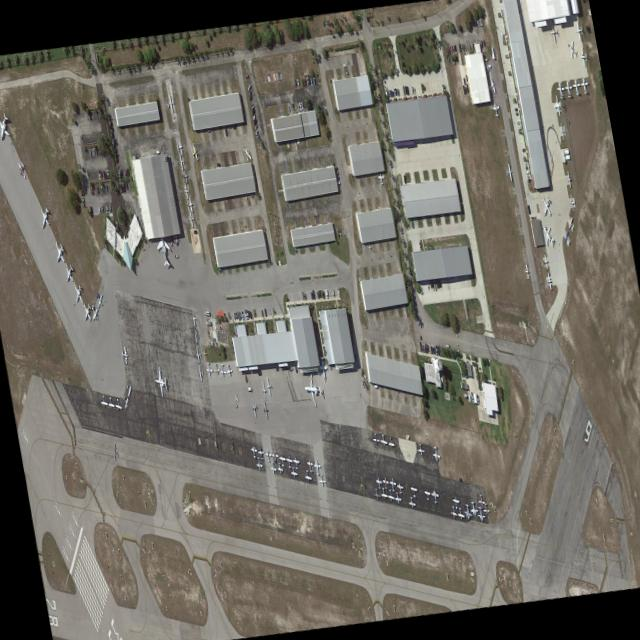large-vehicle: (204, 319, 210, 324), (203, 309, 208, 314)
plane: (300, 371, 322, 406), (153, 232, 172, 265), (151, 363, 166, 398), (52, 234, 65, 272), (71, 274, 84, 310), (539, 188, 551, 223), (62, 256, 74, 289), (38, 199, 49, 235), (541, 216, 552, 251), (80, 295, 92, 327), (0, 107, 9, 148), (316, 354, 328, 381), (15, 154, 25, 182), (88, 299, 98, 323), (551, 93, 561, 116), (94, 286, 103, 311), (461, 500, 471, 521), (189, 140, 198, 162), (543, 270, 552, 290), (573, 19, 582, 39), (430, 443, 440, 461), (475, 503, 485, 521), (567, 36, 574, 61), (467, 499, 477, 516), (481, 55, 491, 72), (578, 76, 588, 93), (487, 74, 495, 95), (548, 20, 556, 41), (566, 212, 574, 233), (249, 396, 257, 417), (490, 98, 499, 116), (563, 79, 572, 97), (578, 45, 586, 65), (570, 77, 580, 93), (174, 135, 182, 155), (119, 343, 127, 363), (562, 226, 569, 248), (248, 442, 257, 459), (555, 81, 564, 98), (429, 486, 438, 503), (258, 380, 266, 399), (264, 376, 272, 395), (121, 390, 128, 411), (567, 192, 575, 210), (304, 456, 313, 472), (311, 458, 320, 474), (387, 475, 396, 491), (558, 120, 565, 140), (111, 440, 117, 463), (540, 252, 548, 269), (166, 93, 174, 110), (284, 452, 292, 469), (185, 195, 193, 212), (406, 494, 415, 509), (408, 482, 417, 497), (217, 361, 226, 376), (243, 145, 250, 164), (124, 379, 131, 398), (378, 431, 386, 447), (98, 391, 106, 407), (504, 162, 511, 180), (370, 430, 379, 444), (316, 472, 325, 486), (371, 485, 380, 499), (455, 504, 463, 519), (448, 503, 456, 518), (277, 451, 285, 466), (302, 467, 310, 482), (291, 454, 299, 469), (451, 493, 459, 508), (422, 486, 430, 501), (385, 486, 393, 501), (379, 484, 387, 499), (224, 361, 232, 376), (113, 395, 121, 410), (204, 360, 212, 375), (261, 400, 268, 417), (187, 209, 194, 226), (181, 166, 188, 183), (177, 151, 184, 168), (375, 170, 384, 183), (415, 441, 424, 454), (522, 262, 529, 278), (386, 434, 394, 448), (182, 182, 189, 198), (192, 326, 198, 344), (254, 455, 261, 470), (263, 448, 271, 461), (270, 448, 278, 461), (476, 492, 484, 505), (392, 490, 400, 503), (106, 395, 114, 408), (211, 361, 219, 374), (565, 169, 571, 186), (190, 308, 196, 325), (194, 345, 200, 362), (196, 363, 202, 380), (289, 463, 296, 477), (381, 474, 388, 488), (374, 474, 381, 488), (395, 479, 402, 493), (268, 460, 275, 473), (275, 460, 282, 473), (256, 446, 263, 458), (481, 501, 488, 513)
small-vehicle: (433, 343, 437, 354), (435, 343, 439, 354), (464, 82, 468, 92), (242, 308, 246, 318), (173, 234, 177, 244), (88, 204, 92, 214), (429, 277, 433, 287), (113, 217, 117, 227), (383, 87, 387, 97), (404, 84, 408, 94), (323, 287, 327, 297), (87, 147, 91, 156), (252, 116, 256, 125), (251, 111, 255, 120), (262, 307, 266, 316), (311, 75, 315, 84), (223, 123, 226, 134), (469, 390, 472, 401), (254, 131, 258, 139), (100, 183, 104, 191), (363, 381, 367, 389), (249, 102, 253, 110), (503, 52, 508, 58), (246, 384, 251, 390), (97, 169, 100, 179), (437, 276, 440, 286), (475, 393, 478, 403), (372, 382, 377, 388), (403, 84, 406, 94), (311, 288, 314, 298), (109, 126, 113, 133), (108, 121, 112, 128), (457, 42, 460, 51), (446, 45, 449, 54), (476, 17, 479, 26), (478, 16, 481, 25), (450, 54, 453, 63), (87, 110, 90, 119), (91, 146, 94, 155), (122, 168, 125, 177), (125, 167, 128, 176), (471, 41, 474, 50), (239, 309, 242, 318), (236, 310, 239, 319), (434, 277, 437, 286), (436, 277, 439, 286), (428, 278, 431, 287), (402, 173, 405, 182), (526, 203, 529, 212), (104, 203, 107, 212), (95, 184, 98, 193), (105, 168, 108, 177), (362, 372, 365, 381), (428, 344, 431, 353), (359, 378, 362, 387), (425, 279, 428, 288), (417, 240, 420, 249), (387, 87, 390, 96), (392, 86, 395, 95), (393, 86, 396, 95), (251, 106, 254, 115), (290, 102, 293, 111), (246, 81, 249, 90), (247, 86, 250, 95), (315, 289, 318, 298), (321, 289, 324, 298), (293, 363, 296, 372), (323, 105, 326, 114), (499, 30, 504, 35), (226, 123, 231, 128), (287, 365, 292, 370), (208, 339, 212, 345), (459, 42, 462, 50), (473, 17, 476, 25), (460, 42, 463, 50), (445, 55, 448, 63), (522, 159, 526, 165), (479, 39, 482, 47), (114, 155, 117, 163), (112, 141, 115, 149), (124, 168, 127, 176), (96, 145, 99, 153), (254, 127, 257, 135), (246, 309, 249, 317), (244, 309, 247, 317), (238, 310, 241, 318), (232, 311, 235, 319), (171, 234, 174, 242), (124, 181, 127, 189), (96, 205, 99, 213), (107, 203, 110, 211), (89, 185, 92, 193), (99, 183, 102, 191), (430, 345, 433, 353), (336, 229, 339, 237), (385, 88, 388, 96), (390, 87, 393, 95), (395, 87, 398, 95), (411, 85, 414, 93), (410, 85, 413, 93), (334, 169, 338, 175), (299, 100, 302, 108), (286, 104, 289, 112), (295, 77, 298, 85), (248, 93, 251, 101), (309, 290, 312, 298), (330, 288, 333, 296), (307, 76, 310, 84), (317, 105, 320, 113), (470, 18, 473, 25), (452, 43, 455, 50), (451, 44, 454, 51), (110, 131, 113, 138), (94, 146, 97, 153), (248, 310, 251, 317), (99, 204, 102, 211), (103, 182, 106, 189), (253, 122, 256, 129), (259, 308, 262, 315), (308, 77, 311, 84), (500, 34, 504, 39), (515, 119, 519, 124), (526, 177, 530, 182), (112, 147, 116, 152), (173, 252, 177, 257), (154, 148, 158, 153), (418, 341, 420, 351), (205, 127, 209, 132), (231, 123, 235, 128), (457, 476, 461, 481), (335, 179, 339, 184), (444, 342, 448, 347), (341, 61, 345, 66), (249, 192, 253, 197), (475, 17, 477, 26), (117, 168, 119, 177), (115, 162, 118, 168), (420, 342, 422, 351), (338, 228, 340, 237), (298, 100, 300, 109), (317, 288, 319, 297), (472, 18, 474, 26), (462, 76, 464, 84), (513, 107, 517, 111), (517, 124, 521, 128), (520, 147, 524, 151), (524, 169, 528, 173), (482, 38, 484, 46), (99, 170, 101, 178), (102, 170, 104, 178), (426, 343, 428, 351), (422, 344, 424, 352), (216, 162, 220, 166), (118, 181, 120, 189), (333, 166, 337, 170), (360, 367, 362, 375), (335, 175, 339, 179), (432, 345, 434, 353), (296, 100, 298, 108), (303, 291, 305, 299), (305, 76, 307, 84), (525, 173, 528, 178), (450, 45, 452, 52), (111, 136, 113, 143), (104, 170, 106, 177), (293, 78, 295, 85), (336, 288, 338, 295), (467, 43, 469, 49), (514, 111, 517, 115), (524, 165, 527, 169), (244, 72, 247, 76), (344, 70, 347, 74)
